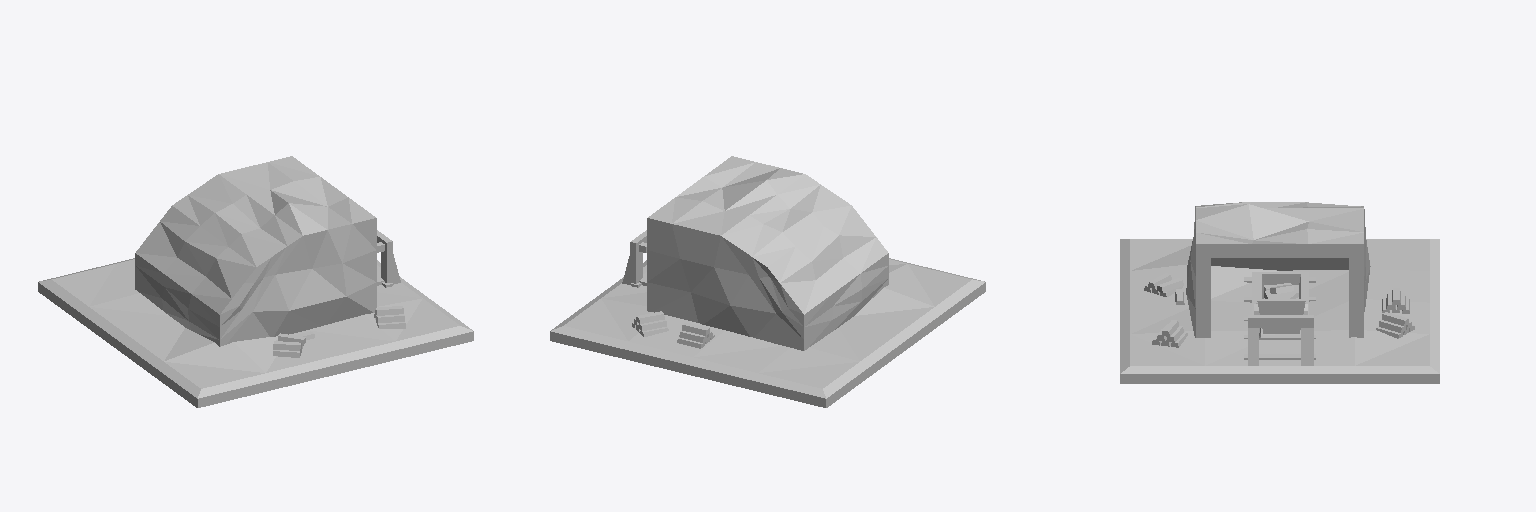
Rendered from goldmine.obj.
The picture shows the model from 3 angles: view 1: azimuth 30°, elevation 25°; view 2: azimuth 150°, elevation 25°; view 3: azimuth 270°, elevation 25°; orthographic projection.
Parts seen in each view (by area): view 1: Gold_Mine; view 2: Gold_Mine; view 3: Gold_Mine.
Part boxes in pixels (left/top/right/bottom): Gold_Mine: left=38, top=156, right=473, bottom=407; Gold_Mine: left=550, top=156, right=985, bottom=407; Gold_Mine: left=1120, top=202, right=1439, bottom=383.
Bounding box in the file's own units: 3 × 1.25 × 3.